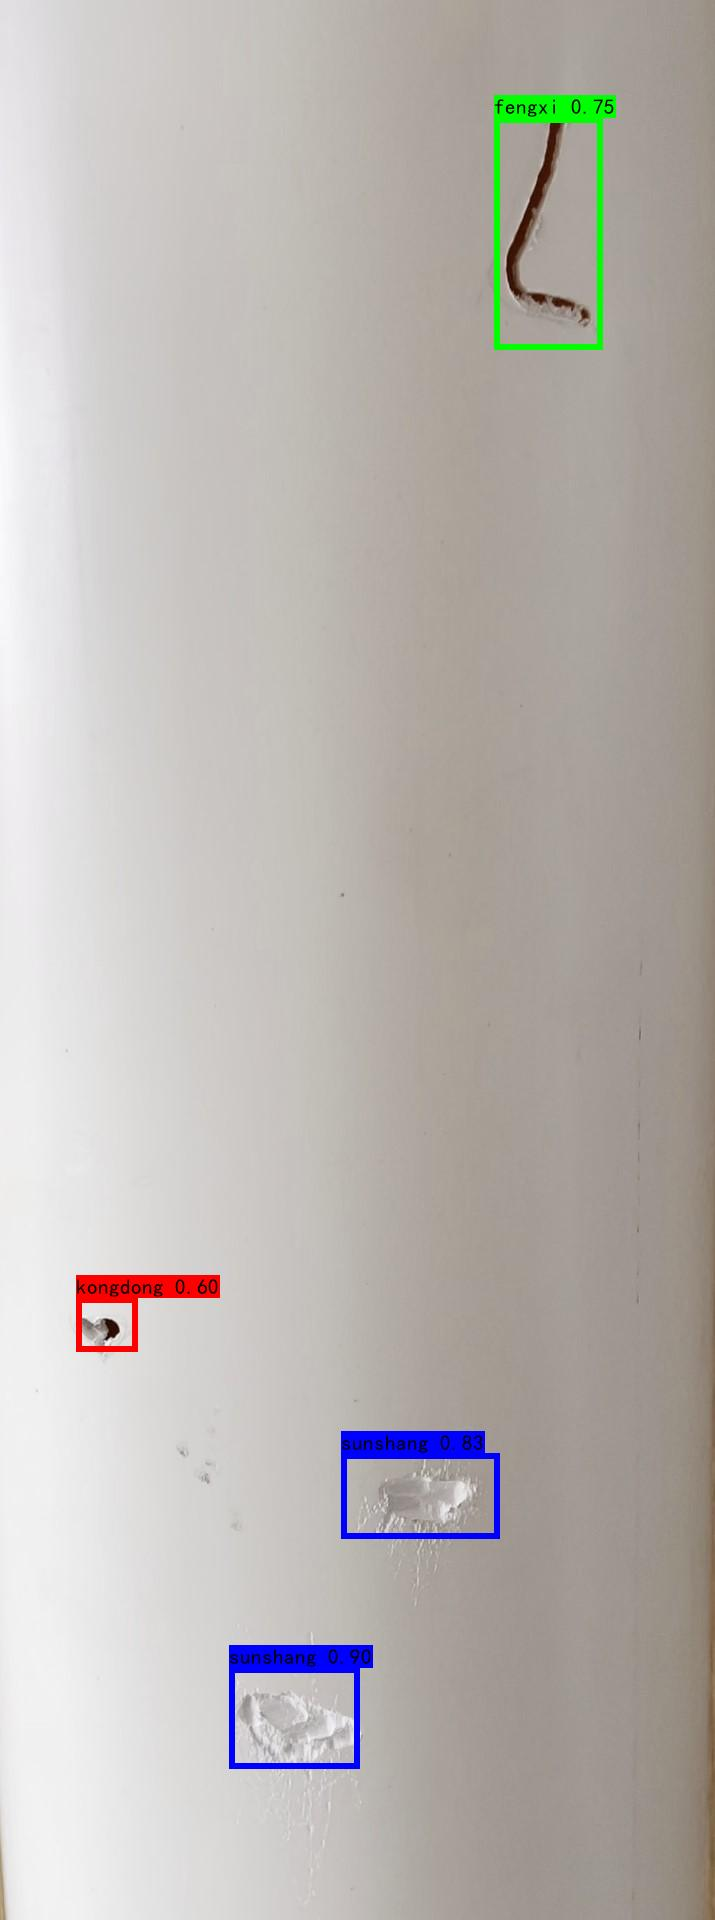fengxi: (493, 91, 611, 340)
kongdong: (80, 1300, 140, 1358)
sunshang: (231, 1689, 369, 1767), (370, 1456, 495, 1533)
